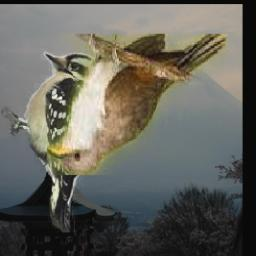Cuckoo: (46, 34, 227, 175)
Woodpecker: (0, 48, 105, 232)
